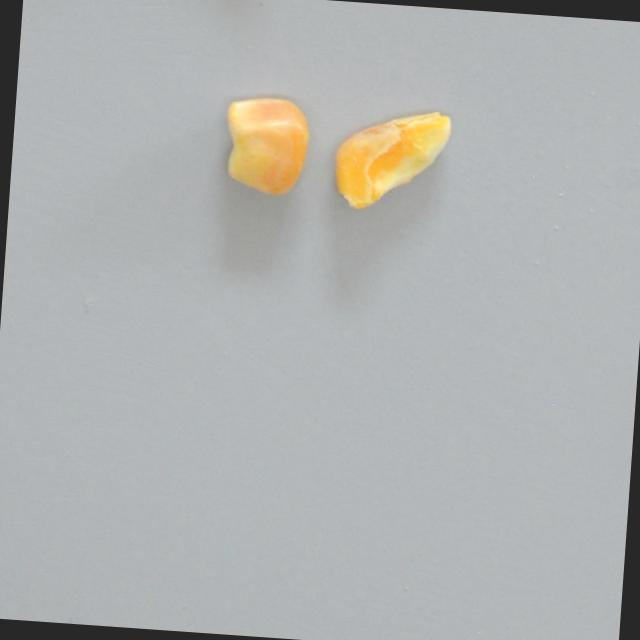pelicula: (331, 106, 454, 216), (220, 92, 312, 200)
